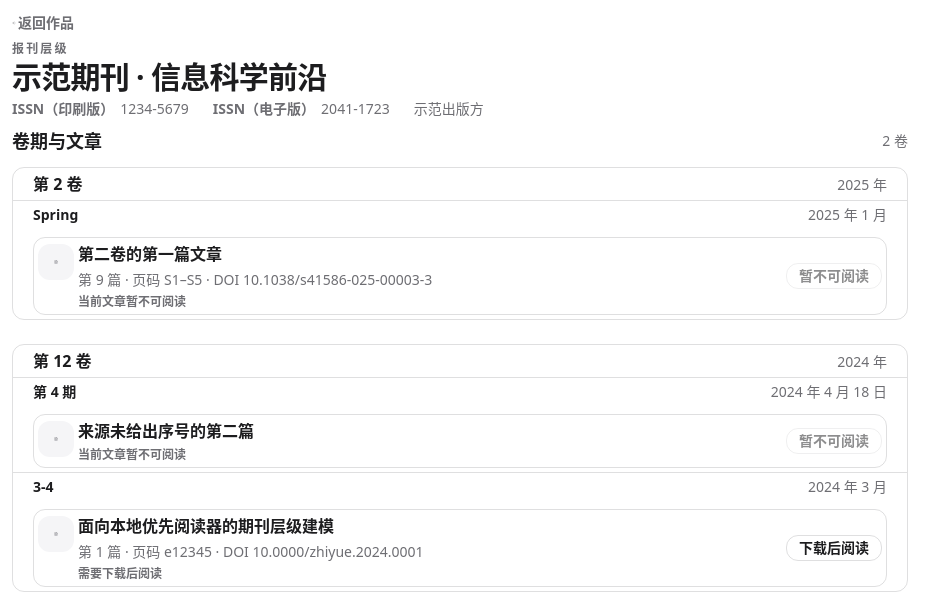
Test: PeriodicalTreePage › rechecks after a completion event arrives during an older capability snapshot
Check: the text "需要下载后阅读" is shown, box [78,565,162,582]
Click the button "下载后阅读": x=834, y=548 [786,535,882,561]
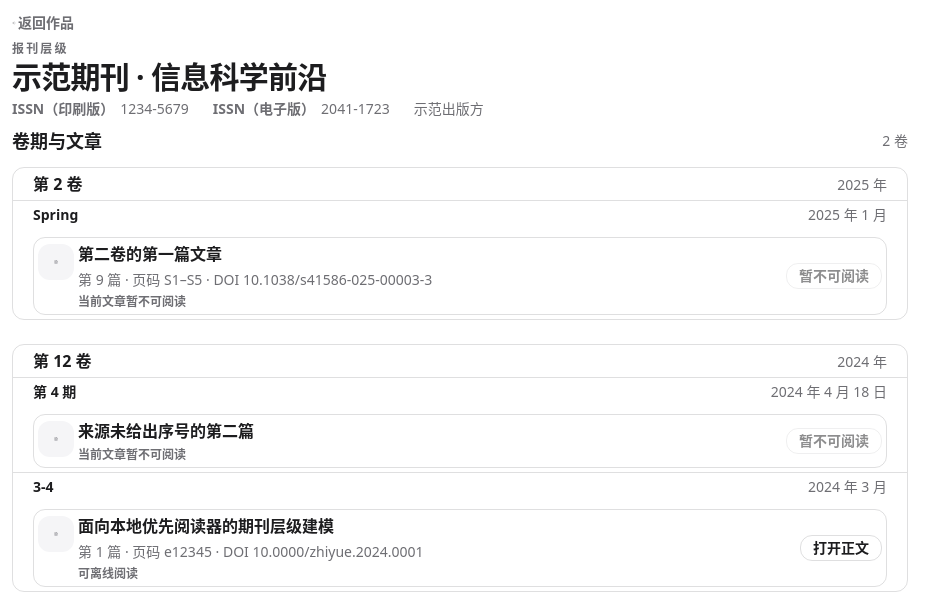
Check: the text "可离线阅读" is shown, box [78,565,138,582]
